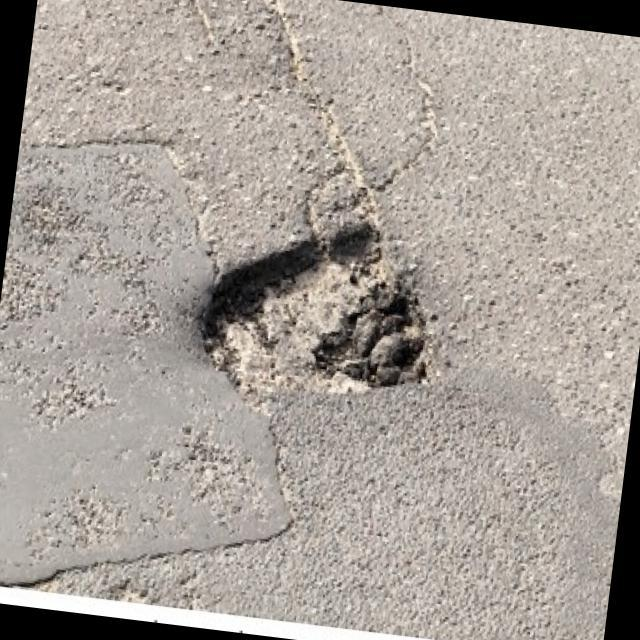Pothole: (184, 195, 453, 428)
